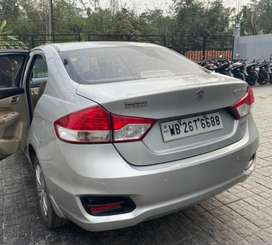WB26T6688: (159, 111, 223, 142)
